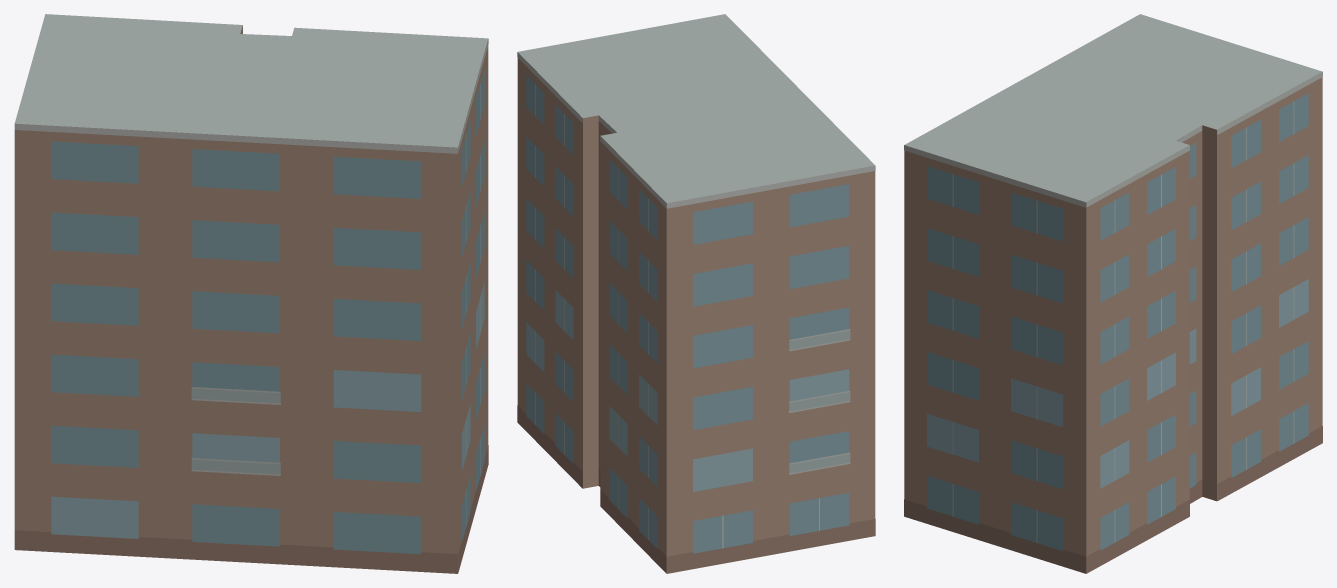
Rendered from survey-upis-32629411.glb.
The picture shows the model from 3 angles, left to right: view 1: azimuth 30°, elevation 25°; view 2: azimuth 150°, elevation 25°; view 3: azimuth 270°, elevation 25°; orthographic projection. The views are drawn at different scales.
Visible parts, largest first — view 1: survey-upis-32629411.tmp; view 2: survey-upis-32629411.tmp; view 3: survey-upis-32629411.tmp.
Part boxes in pixels (x1=…): survey-upis-32629411.tmp: x1=14, y1=14, x2=488, y2=573; survey-upis-32629411.tmp: x1=517, y1=14, x2=875, y2=573; survey-upis-32629411.tmp: x1=904, y1=14, x2=1322, y2=573.
Size of the model in its own units: 18.16 by 16.7 by 17.06.
